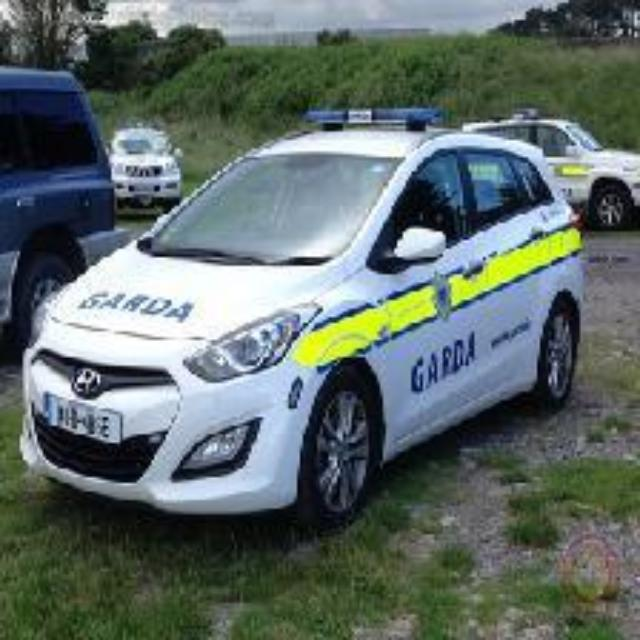emergency: (26, 105, 580, 528), (454, 105, 640, 228)
